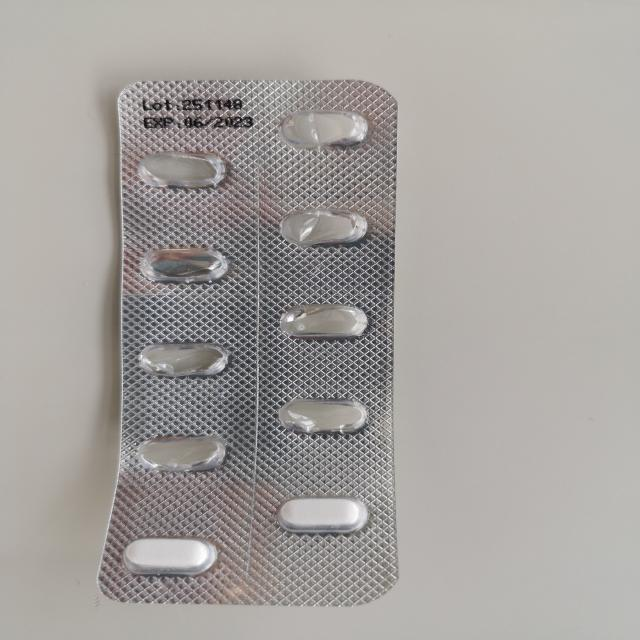Empty: (130, 147, 234, 193), (274, 394, 372, 439), (276, 108, 373, 153), (130, 432, 232, 474), (270, 208, 372, 250), (132, 339, 236, 380), (134, 245, 237, 284), (276, 301, 372, 342)
Pill: (117, 534, 224, 578), (271, 493, 374, 537)
